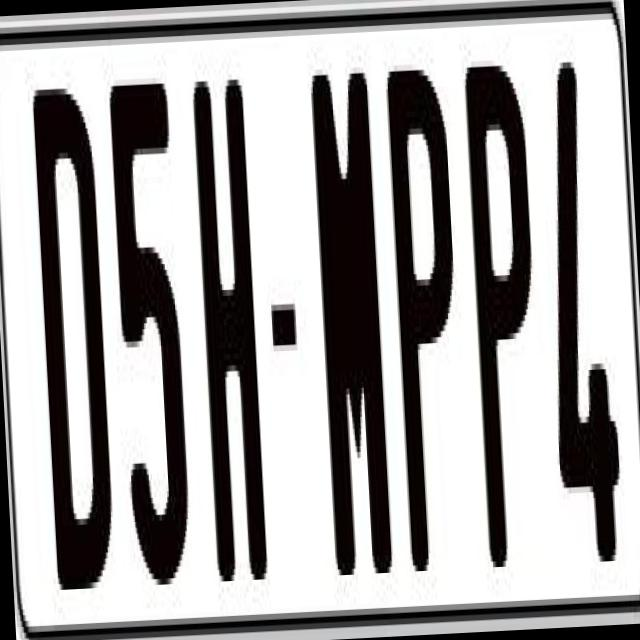4: (538, 42, 631, 546)
5: (106, 83, 192, 598)
D: (28, 70, 121, 584)
H: (190, 68, 268, 606)
M: (308, 73, 394, 581)
P: (385, 69, 471, 601), (464, 65, 550, 572)
